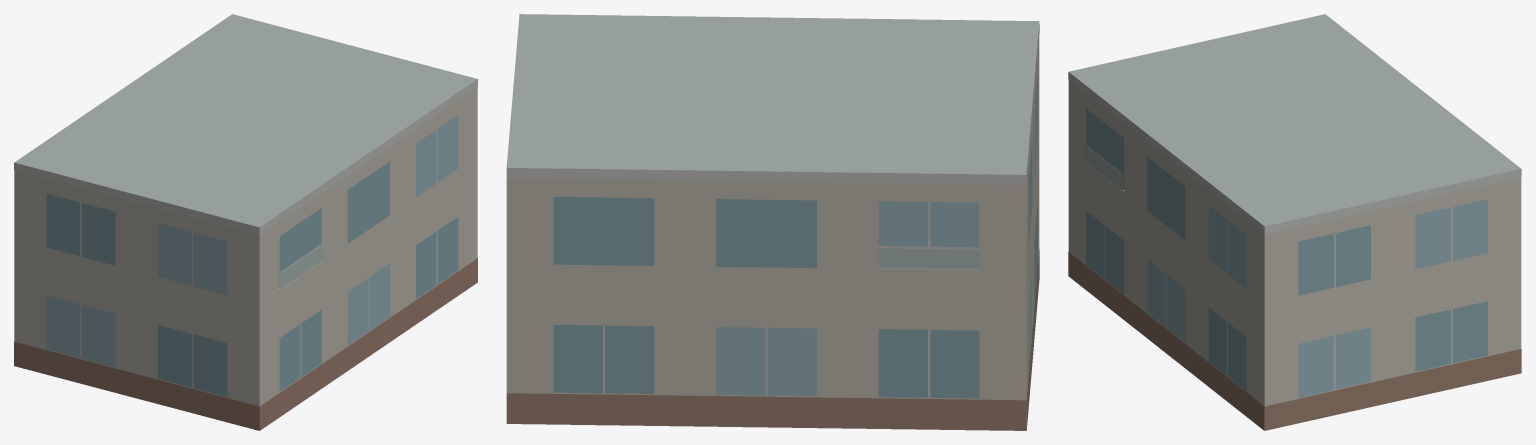
Rendered from survey-upis-32696194.glb.
3 views of the same model, side by side, from view 1: azimuth 30°, elevation 25°; view 2: azimuth 150°, elevation 25°; view 3: azimuth 270°, elevation 25° (orthographic). The views are drawn at different scales.
Parts seen in each view (by area): view 1: survey-upis-32696194.tmp; view 2: survey-upis-32696194.tmp; view 3: survey-upis-32696194.tmp.
Boxes of the visible parts, bbox=[...] form: survey-upis-32696194.tmp: bbox=[14, 14, 477, 430]; survey-upis-32696194.tmp: bbox=[506, 14, 1039, 430]; survey-upis-32696194.tmp: bbox=[1068, 14, 1521, 430].
Size of the model in its own units: 13.6 by 6.1 by 12.26.
